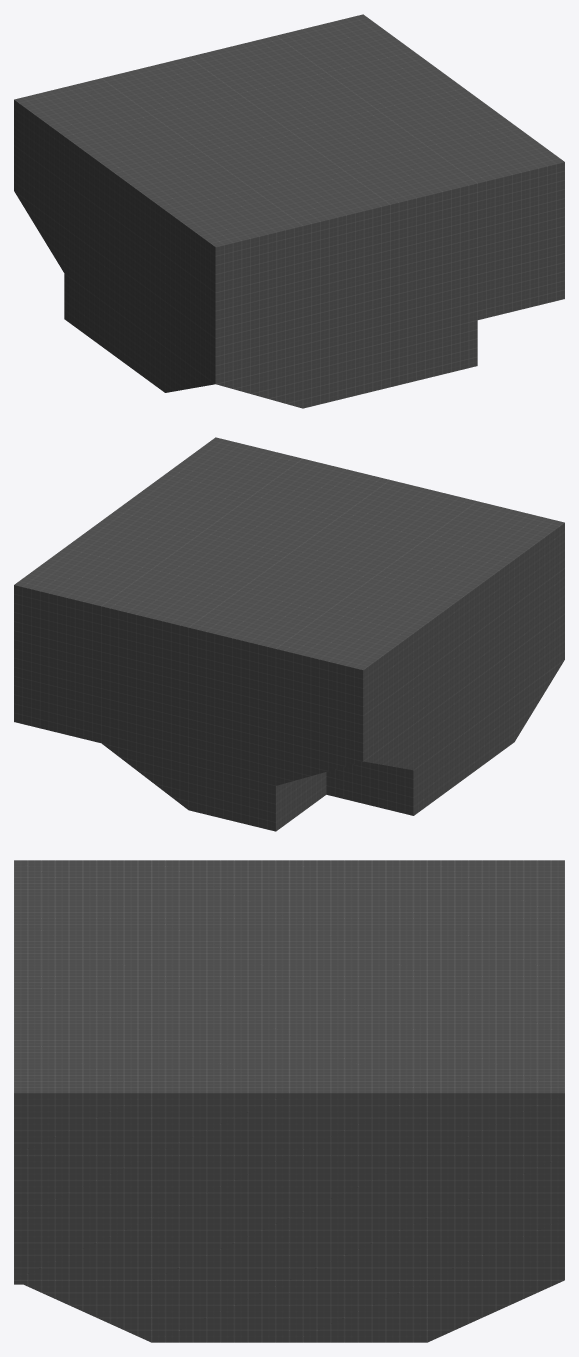
The model's file is TestArea.FBX.
The picture shows the model from 3 angles, top to bottom: view 1: azimuth 30°, elevation 25°; view 2: azimuth 150°, elevation 25°; view 3: azimuth 270°, elevation 25°; orthographic projection. The views are drawn at different scales.
Visible parts, largest first — view 1: Box007; view 2: Box007; view 3: Box007.
Part boxes in pixels (left/top/right/bottom): Box007: left=14, top=14, right=564, bottom=408; Box007: left=14, top=437, right=564, bottom=831; Box007: left=14, top=860, right=564, bottom=1342.
Bounding box in the file's own units: 40 × 20 × 40.
